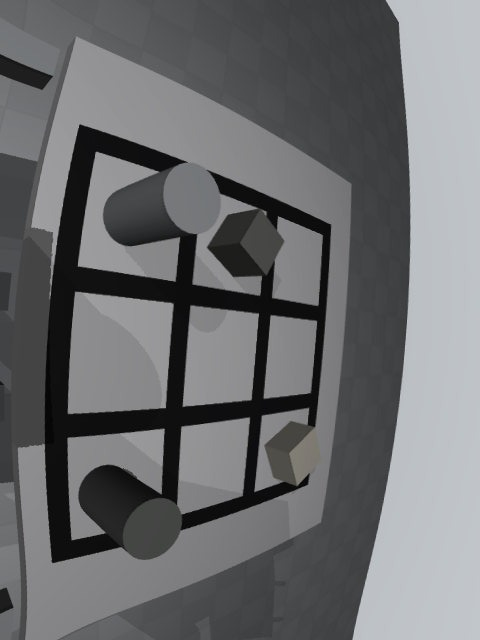can: (103, 163, 221, 246)
cube: (207, 208, 284, 277)
cylinder: (78, 464, 182, 560)
foam: (264, 421, 322, 486)
